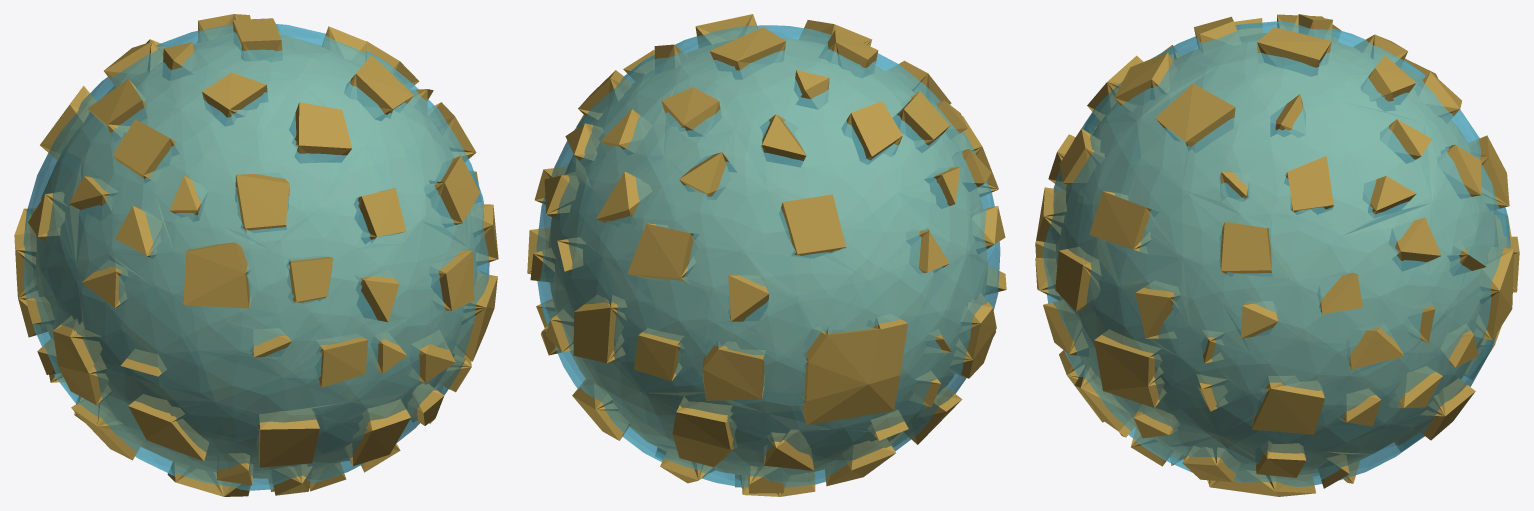
File: water_planet9.fbx
3 renders of one model, left to right at view 1: azimuth 30°, elevation 25°; view 2: azimuth 150°, elevation 25°; view 3: azimuth 270°, elevation 25°, orthographic.
Visible parts, largest first — view 1: water_planet9; view 2: water_planet9; view 3: water_planet9.
Boxes of the visible parts, x1=… form: water_planet9: x1=14, y1=14, x2=498, y2=496; water_planet9: x1=527, y1=14, x2=1006, y2=496; water_planet9: x1=1035, y1=14, x2=1519, y2=496.
Size of the model in its own units: 196 by 197 by 197.
